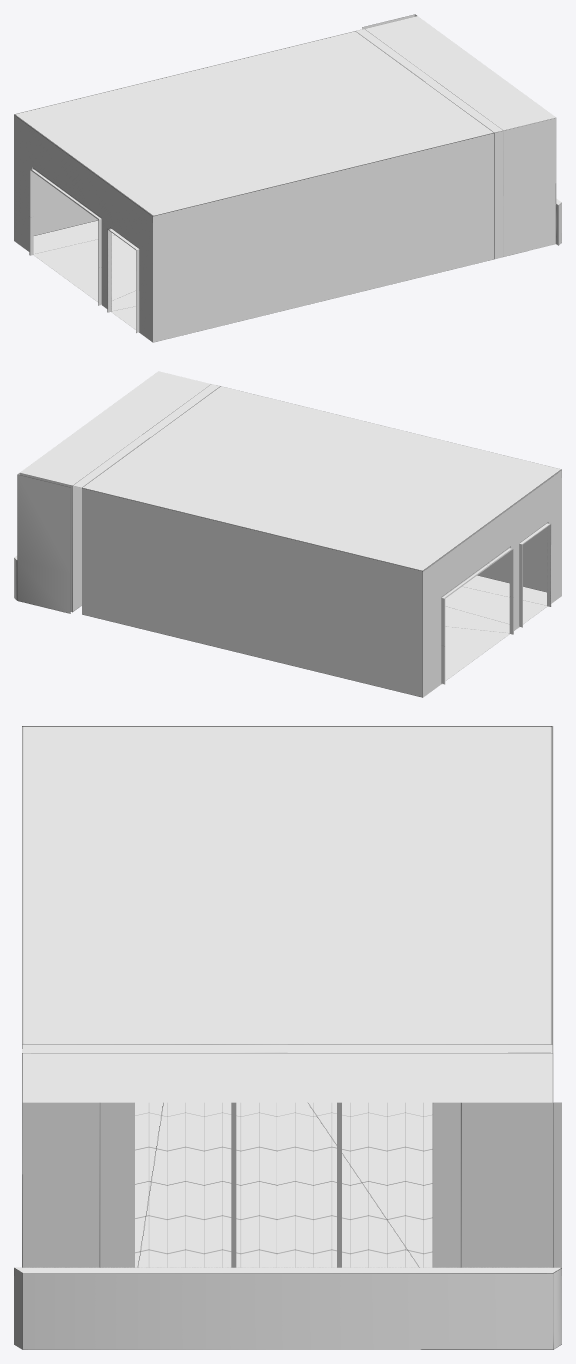
Rendered from 1房间主体.fbx.
3 views of the same model, one above another, from view 1: azimuth 30°, elevation 25°; view 2: azimuth 150°, elevation 25°; view 3: azimuth 270°, elevation 25° (orthographic). The views are drawn at different scales.
Parts seen in each view (by area): view 1: 内墙, 屋顶, 阳台, 地板, 外墙1, 柜门框, 门框; view 2: 内墙, 屋顶, 阳台, 地板, 外墙1, 柜门框, 门框; view 3: 屋顶, 阳台, 地板, 外墙1, 窗帘, 窗户1, 窗帘2.
Part boxes in pixels (x1,y1,x2,y2): 内墙: (14,114,494,342); 屋顶: (14,31,493,215); 阳台: (362,14,561,256); 地板: (33,220,135,329); 外墙1: (356,29,503,259); 柜门框: (29,167,101,305); 门框: (107,228,139,332); 内墙: (82,469,561,697); 屋顶: (82,386,561,570); 阳台: (14,371,211,613); 地板: (445,575,547,680); 外墙1: (72,384,220,611); 柜门框: (441,546,513,684); 门框: (519,522,551,627); 屋顶: (22,726,553,1044); 阳台: (14,1053,561,1349); 地板: (135,1102,432,1267); 外墙1: (22,1044,553,1267); 窗帘: (276,1103,432,1266); 窗户1: (231,1102,341,1267); 窗帘2: (135,1103,277,1266).
Size of the model in its own units: 4433 by 1302 by 2670.
8 materials, 7 textured.
